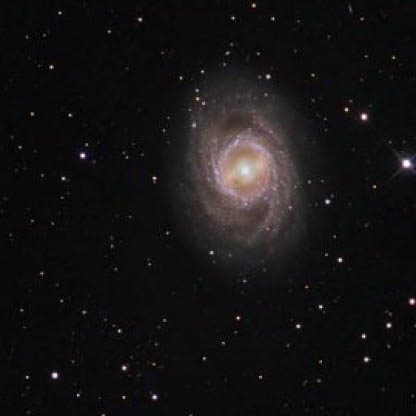Messier 95: (166, 66, 313, 284)
